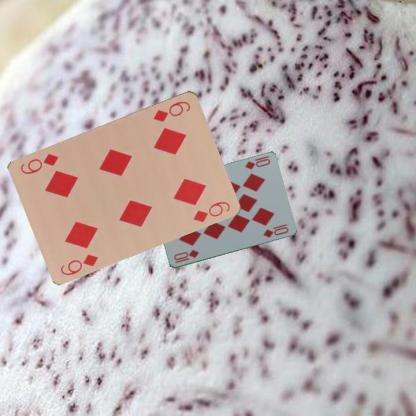10d: (171, 247, 200, 265), (242, 156, 271, 171)
6d: (58, 251, 100, 277), (151, 98, 192, 123)
